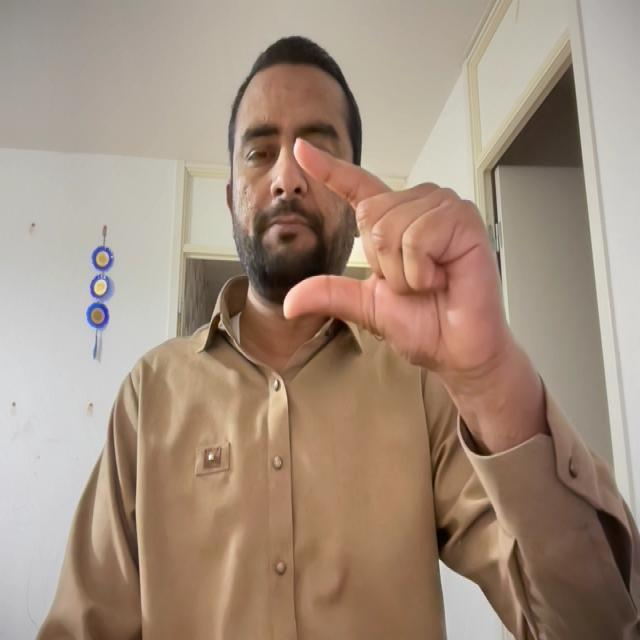No: (273, 130, 544, 376)
